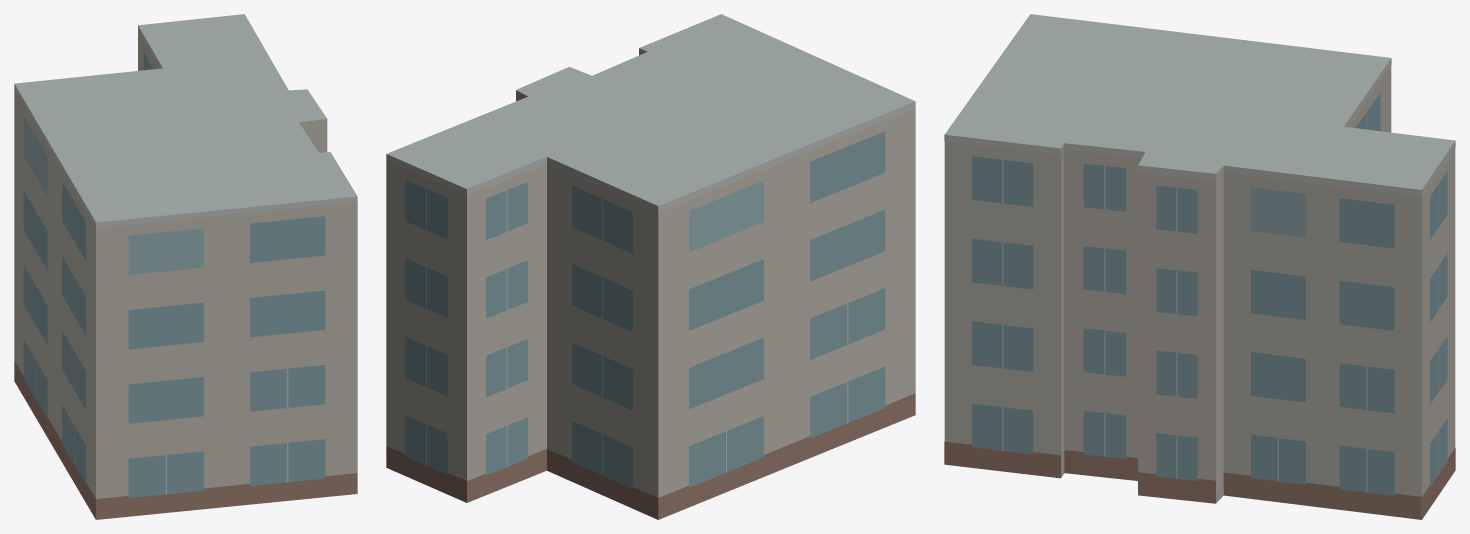
The model's file is survey-upis-32879679.glb.
The picture shows the model from 3 angles, left to right: view 1: azimuth 30°, elevation 25°; view 2: azimuth 150°, elevation 25°; view 3: azimuth 270°, elevation 25°; orthographic projection. The views are drawn at different scales.
Visible parts, largest first — view 1: survey-upis-32879679.tmp; view 2: survey-upis-32879679.tmp; view 3: survey-upis-32879679.tmp.
Boxes of the visible parts, x1=… form: survey-upis-32879679.tmp: x1=14, y1=14, x2=357, y2=519; survey-upis-32879679.tmp: x1=386, y1=14, x2=915, y2=519; survey-upis-32879679.tmp: x1=944, y1=14, x2=1455, y2=519.
Bounding box in the file's own units: 13.57 × 11.85 × 16.65.
